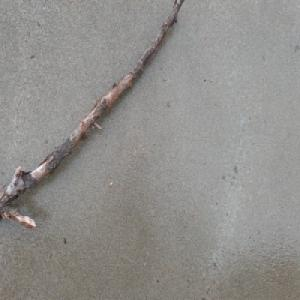Wood: (0, 0, 185, 230)
